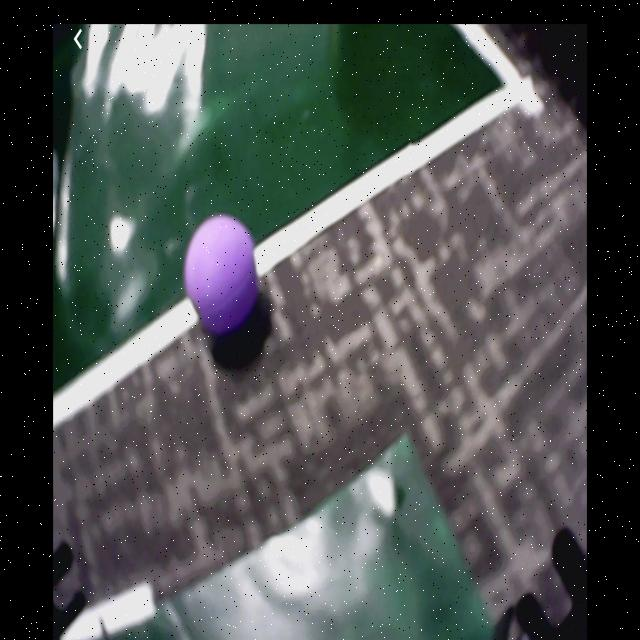ball: (185, 218, 257, 336)
